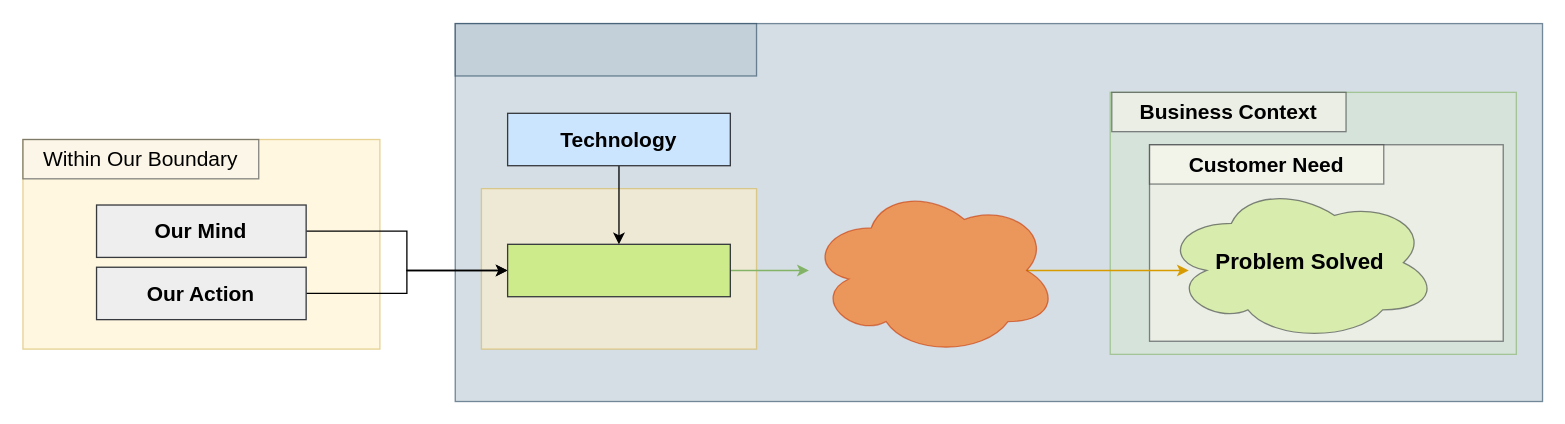
The diagram is 1565 pixels wide and 424 high, and some of its shapes have lost their labels. Here are the shapes that lost their labels. From the top down, the box of each, then its label:
(454, 22, 757, 76): Digital Era
(506, 243, 730, 297): Design Thinking
(808, 184, 1058, 356): Problem
